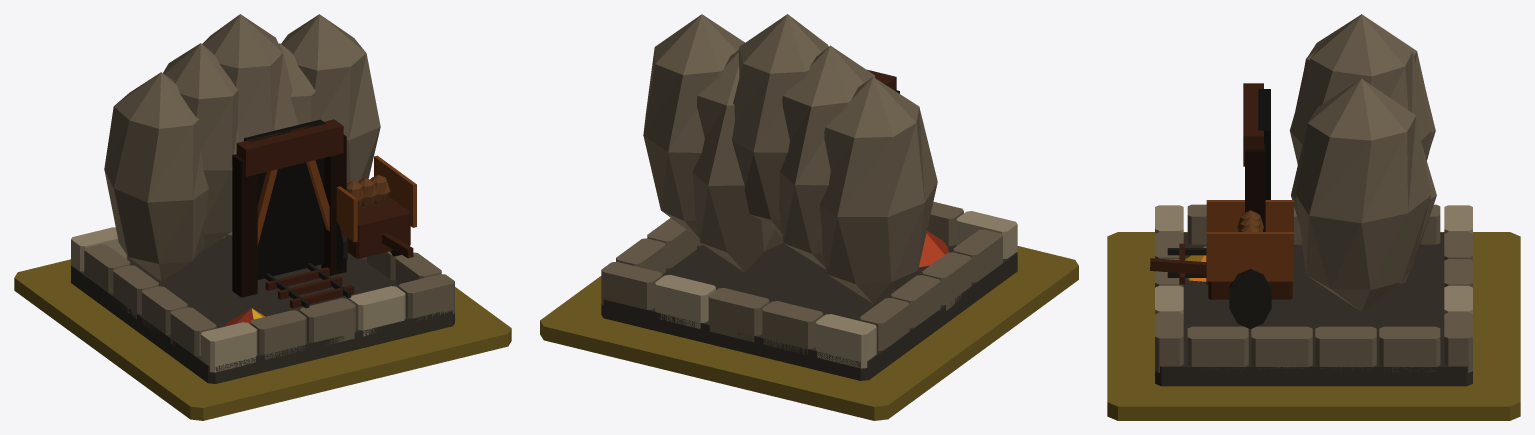
File: mine_t1.glb
3 views of the same model, side by side, from view 1: azimuth 30°, elevation 25°; view 2: azimuth 150°, elevation 25°; view 3: azimuth 270°, elevation 25° (orthographic). The views are drawn at different scales.
Parts seen in each view (by area): view 1: MMR | mine | T01 Architecture.001, MMR | mine | Tier 01 Ground.001; view 2: MMR | mine | T01 Architecture.001, MMR | mine | Tier 01 Ground.001, MMR | mine | T01 Autumn Dressing.001; view 3: MMR | mine | T01 Architecture.001, MMR | mine | Tier 01 Ground.001.
Part boxes in pixels (x1=…): MMR | mine | T01 Architecture.001: x1=71, y1=14, x2=454, y2=383; MMR | mine | Tier 01 Ground.001: x1=14, y1=259, x2=511, y2=420; MMR | mine | T01 Architecture.001: x1=601, y1=14, x2=1017, y2=380; MMR | mine | Tier 01 Ground.001: x1=540, y1=246, x2=1078, y2=420; MMR | mine | T01 Autumn Dressing.001: x1=919, y1=231, x2=948, y2=267; MMR | mine | T01 Architecture.001: x1=1150, y1=14, x2=1472, y2=386; MMR | mine | Tier 01 Ground.001: x1=1107, y1=232, x2=1520, y2=420.
Size of the model in its own units: 1.3 by 1.11 by 1.3.
1 material, 1 textured.
